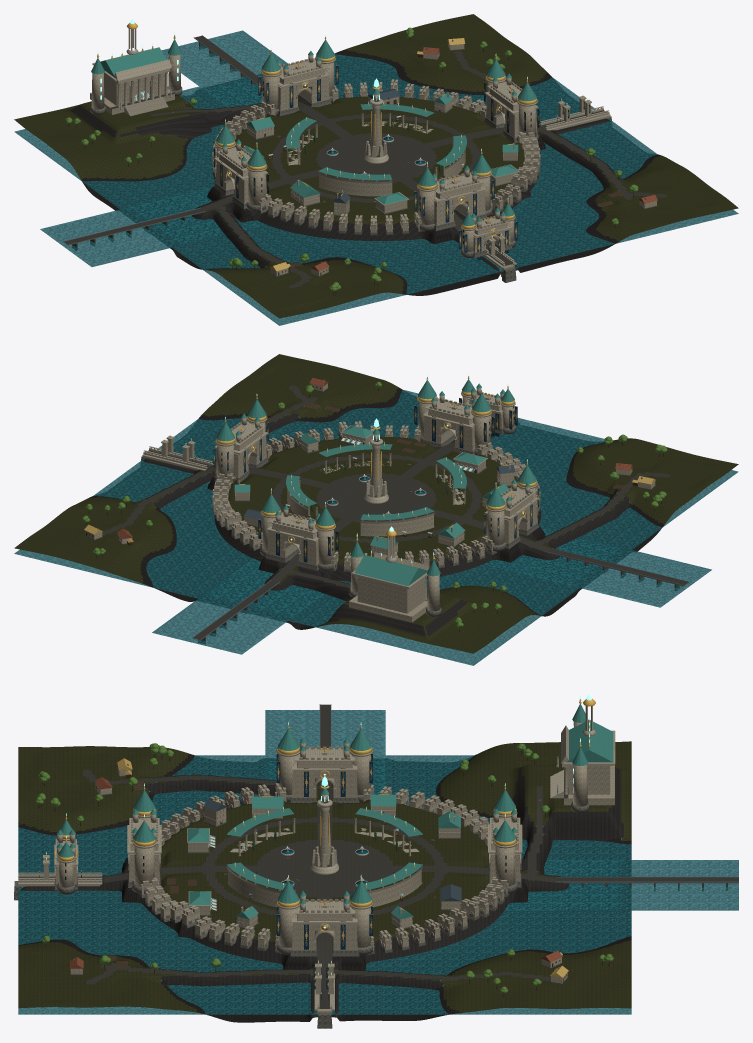
Rendered from world-lod2.glb.
The picture shows the model from 3 angles, top to bottom: view 1: azimuth 30°, elevation 25°; view 2: azimuth 150°, elevation 25°; view 3: azimuth 270°, elevation 25°; orthographic projection. The views are drawn at different scales.
Visible parts, largest first — view 1: Terrain_Meadow, Water_Lake, Terrain_Shore, Terrain_Rock, Terrain_Paving, Water_StreamCauseway_four-gates-crownwater_StreamOverflow_fo, Water_StreamCauseway_mirrorhold-four-gates_StreamOverflow_mi, Water_StreamCauseway_four-gates-crownwater, Gate_South_Inner__Gate_South_Inner__solid__fg_stone_ashlar, Northern_Sanctuary__Northern_Sanctuary__solid__fg_stone_ashl, Gate_North__Gate_North__solid__fg_stone_ashlar, Gate_West__Gate_West__solid__fg_stone_ashlar (+16 smaller); view 2: Terrain_Meadow, Water_Lake, Terrain_Shore, Terrain_Paving, Terrain_Rock, Water_StreamCauseway_mirrorhold-four-gates_StreamOverflow_mi, Water_StreamCauseway_four-gates-crownwater_StreamOverflow_fo, Northern_Sanctuary__Northern_Sanctuary__solid__fg_stone_ashl, Water_StreamCauseway_mirrorhold-four-gates, Gate_North__Gate_North__solid__fg_stone_ashlar, Water_StreamCauseway_four-gates-crownwater, Gate_South_Inner__Gate_South_Inner__solid__fg_stone_ashlar (+18 smaller); view 3: Terrain_Meadow, Water_Lake, Terrain_Shore, Terrain_Rock, Terrain_Paving, Water_StreamCauseway_mirrorhold-four-gates_StreamOverflow_mi, Water_StreamCauseway_four-gates-crownwater_StreamOverflow_fo, Gate_East__Gate_East__solid__fg_stone_ashlar, Gate_West__Gate_West__solid__fg_stone_ashlar, Water_StreamCauseway_mirrorhold-four-gates, Northern_Sanctuary__Northern_Sanctuary__solid__fg_stone_ashl, Northern_Sanctuary__Northern_Sanctuary__solid__fg_roof_verdi (+23 smaller).
Part boxes in pixels (x1,y1,x2,y2): Terrain_Meadow: (14,14,738,318); Water_Lake: (14,54,738,325); Terrain_Shore: (81,50,659,295); Terrain_Rock: (71,99,619,276); Terrain_Paving: (151,51,667,288); Water_StreamCauseway_four-gates-crownwater_StreamOverflow_fo: (40,207,181,266); Water_StreamCauseway_mirrorhold-four-gates_StreamOverflow_mi: (161,30,287,90); Water_StreamCauseway_four-gates-crownwater: (130,196,224,244); Gate_South_Inner__Gate_South_Inner__solid__fg_stone_ashlar: (418,170,490,225); Northern_Sanctuary__Northern_Sanctuary__solid__fg_stone_ashl: (90,54,181,114); Gate_North__Gate_North__solid__fg_stone_ashlar: (262,55,334,111); Gate_West__Gate_West__solid__fg_stone_ashlar: (215,143,266,205); Terrain_Meadow: (14,354,738,653); Water_Lake: (14,390,738,665); Terrain_Shore: (88,387,663,629); Terrain_Paving: (102,385,670,587); Terrain_Rock: (141,413,629,636); Water_StreamCauseway_mirrorhold-four-gates_StreamOverflow_mi: (152,595,293,654); Water_StreamCauseway_four-gates-crownwater_StreamOverflow_fo: (570,547,711,607); Northern_Sanctuary__Northern_Sanctuary__solid__fg_stone_ashl: (349,556,440,622); Water_StreamCauseway_mirrorhold-four-gates: (204,574,320,616); Gate_North__Gate_North__solid__fg_stone_ashlar: (262,509,334,565); Water_StreamCauseway_four-gates-crownwater: (523,537,621,585); Gate_South_Inner__Gate_South_Inner__solid__fg_stone_ashlar: (418,395,490,451); Terrain_Meadow: (18,741,631,1013); Water_Lake: (18,755,631,1014); Terrain_Shore: (18,754,631,1022); Terrain_Rock: (19,767,623,1019); Terrain_Paving: (83,769,559,1015); Water_StreamCauseway_mirrorhold-four-gates_StreamOverflow_mi: (618,860,738,910); Water_StreamCauseway_four-gates-crownwater_StreamOverflow_fo: (265,710,385,760); Gate_East__Gate_East__solid__fg_stone_ashlar: (278,896,371,950); Gate_West__Gate_West__solid__fg_stone_ashlar: (278,743,371,797); Water_StreamCauseway_mirrorhold-four-gates: (555,860,618,910); Northern_Sanctuary__Northern_Sanctuary__solid__fg_stone_ashl: (564,721,614,806); Northern_Sanctuary__Northern_Sanctuary__solid__fg_roof_verdi: (566,703,613,765).
Size of the model in its own units: 482 by 95.4 by 482.
36 materials, 36 textured.
